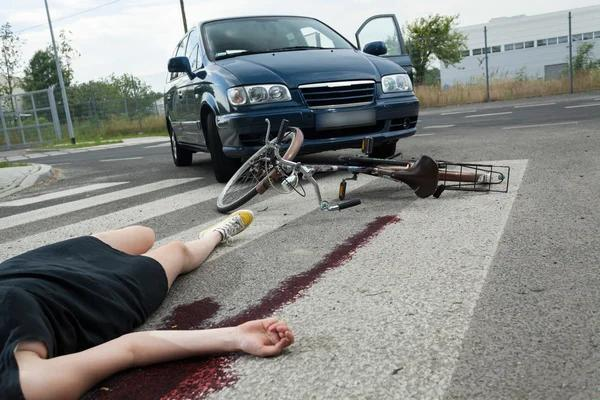Fire: (216, 216, 401, 328), (84, 356, 238, 400), (163, 298, 220, 330)
